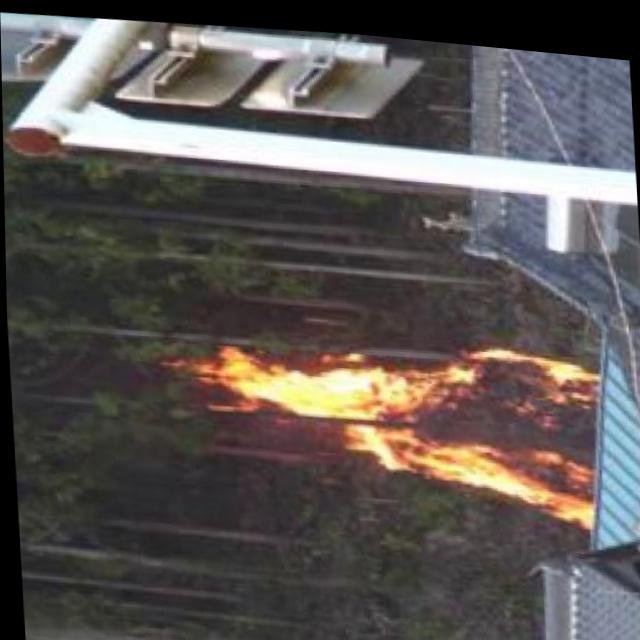Fire: (219, 314, 606, 524)
